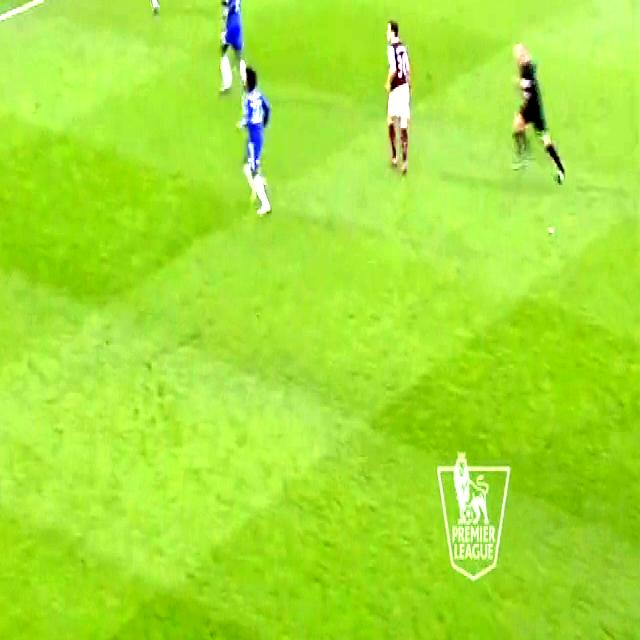referee: (508, 31, 571, 192)
soccer-player: (372, 5, 417, 182), (229, 56, 275, 216), (211, 0, 249, 101), (116, 0, 163, 20)
